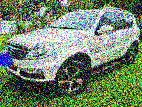car: (2, 7, 139, 96)
